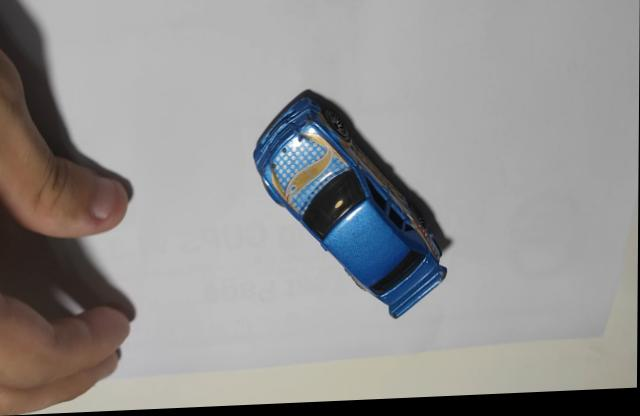04_MERZEDES: (251, 91, 453, 322)
